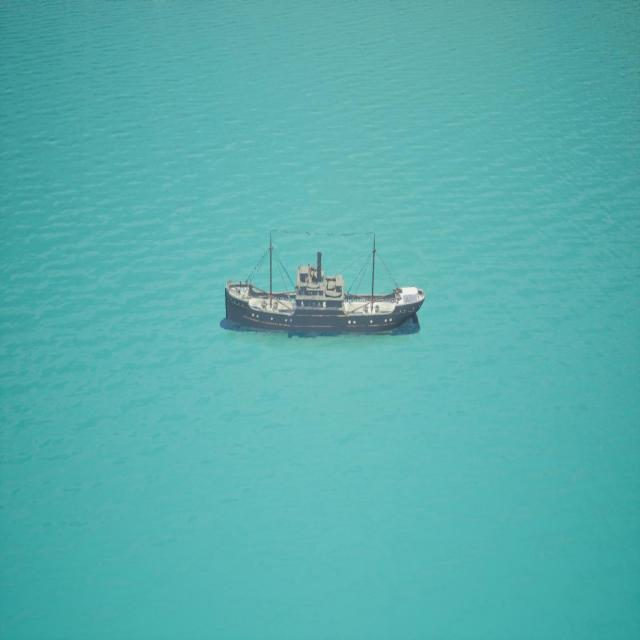fishing ship: (226, 230, 425, 336)
